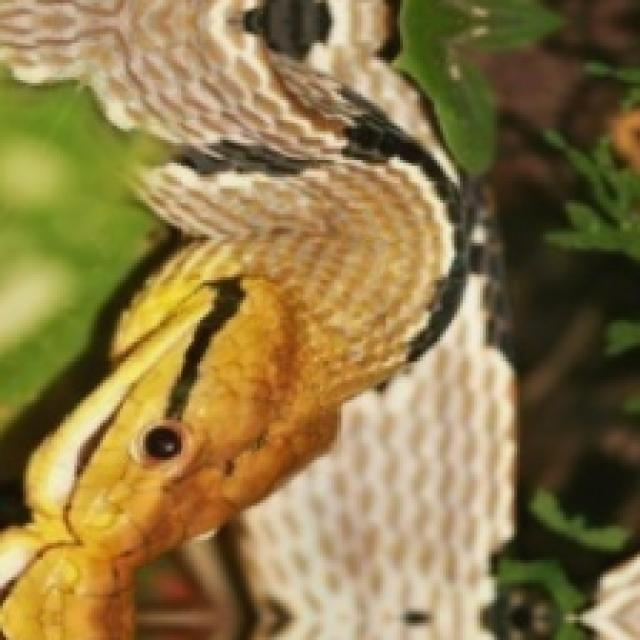dog-toothed cat snake: (0, 0, 511, 637)
